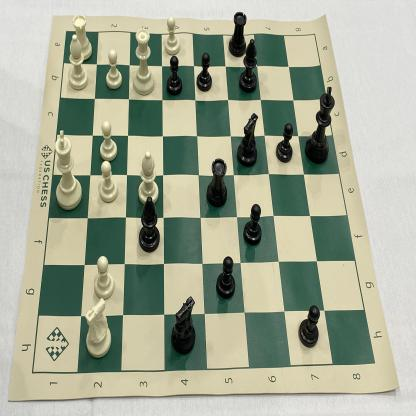black-bishop: (136, 194, 164, 256), (238, 34, 260, 97)
black-king: (304, 83, 337, 167)
black-knight: (168, 291, 201, 359), (236, 109, 260, 171)
black-pawn: (294, 299, 323, 353), (213, 251, 240, 303), (242, 201, 265, 249), (163, 53, 186, 98), (273, 119, 295, 165), (194, 50, 214, 95)
black-rook: (203, 153, 230, 211), (227, 9, 249, 62)
white-bishop: (135, 146, 161, 207), (66, 32, 90, 93)
white-king: (50, 126, 84, 213)
white-knight: (82, 294, 113, 361)
white-pawn: (90, 252, 117, 302), (95, 159, 120, 206), (96, 118, 118, 163), (160, 14, 182, 57), (103, 48, 124, 93)
white-queen: (130, 24, 156, 99)
white-rook: (71, 10, 96, 62)
